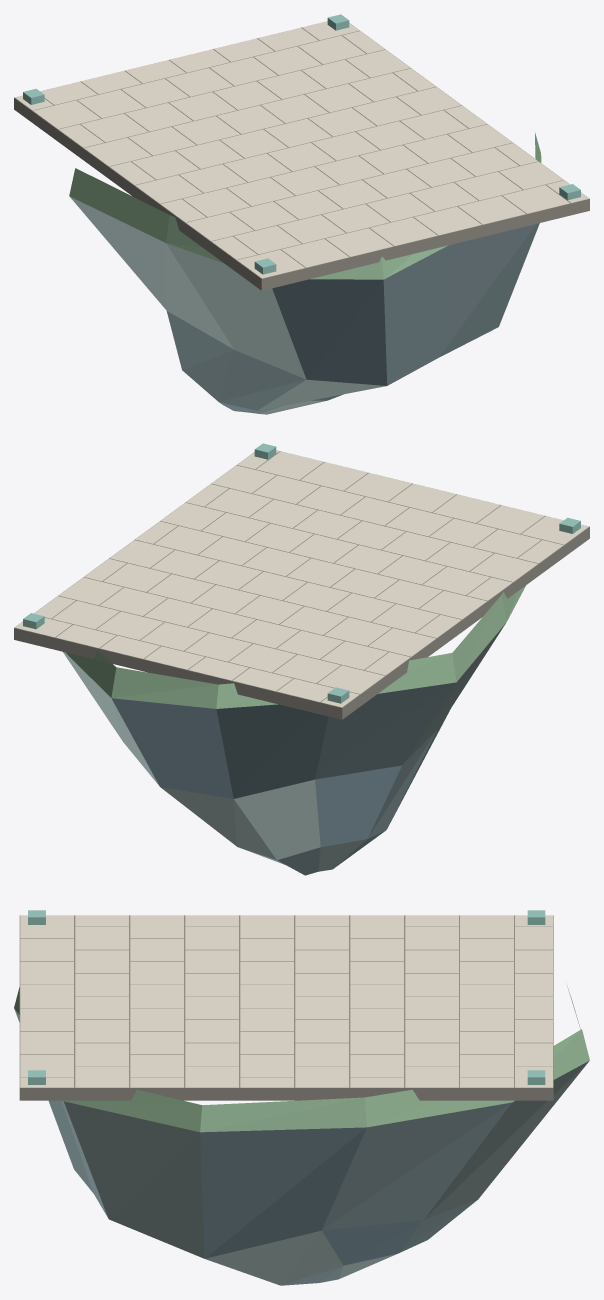
The model's file is FloatingIsland01.glb.
The picture shows the model from 3 angles, top to bottom: view 1: azimuth 30°, elevation 25°; view 2: azimuth 150°, elevation 25°; view 3: azimuth 270°, elevation 25°; orthographic projection. The views are drawn at different scales.
Visible parts, largest first — view 1: FloatingIsland01; view 2: FloatingIsland01; view 3: FloatingIsland01.
Part boxes in pixels (bbox=[...]): FloatingIsland01: bbox=[14, 14, 589, 414]; FloatingIsland01: bbox=[14, 443, 589, 875]; FloatingIsland01: bbox=[14, 910, 589, 1285].
Size of the model in its own units: 9.33 by 6.32 by 11.
